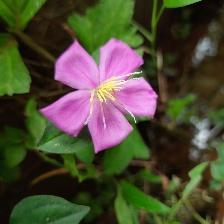malabar melastome: (44, 39, 162, 155)
